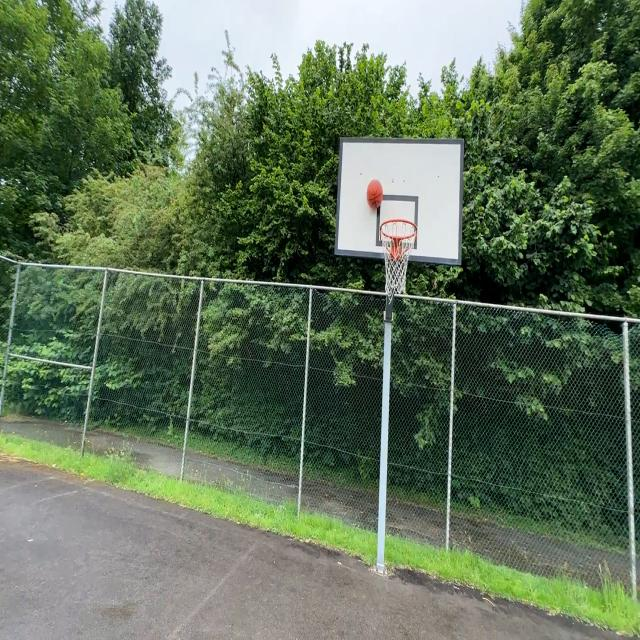rebound_hit: (367, 179, 384, 209)
